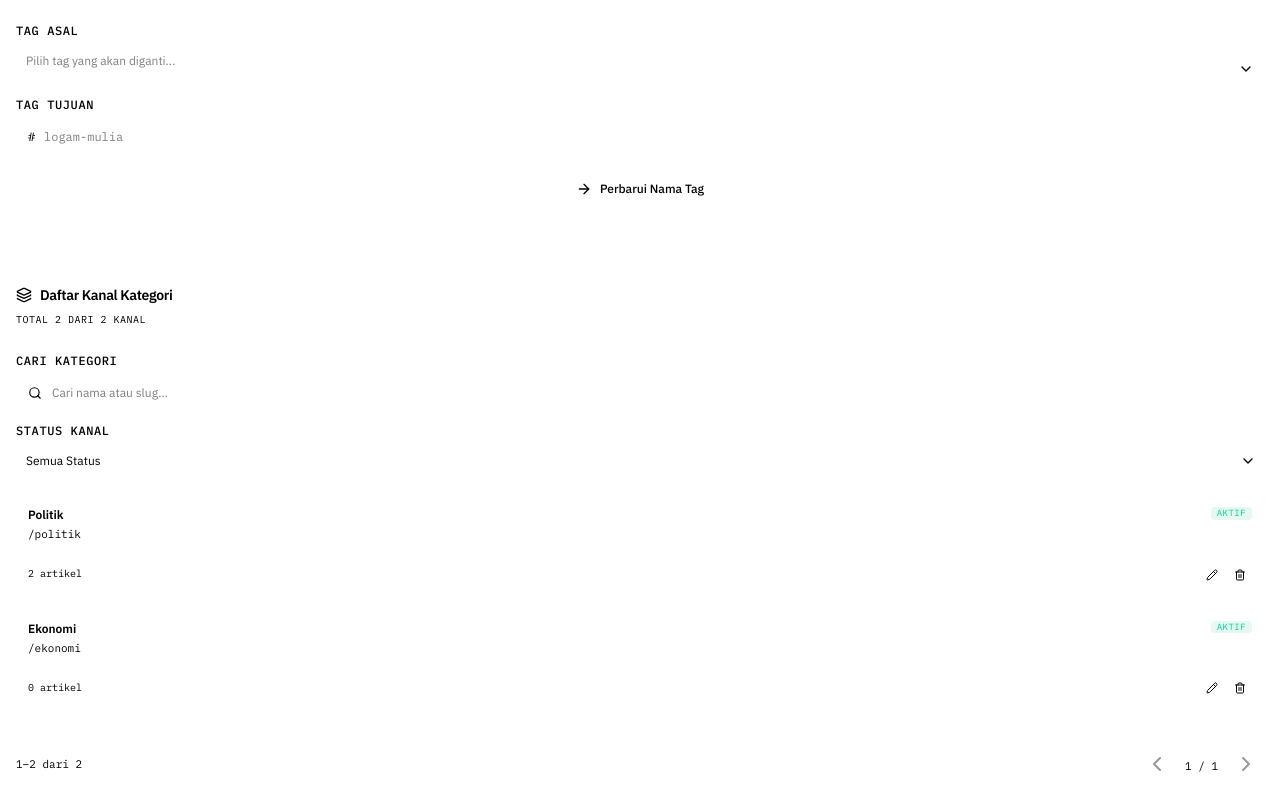
Test: TaxonomyManager › menyalahkan saringan, bukan data, saat kanal ada tetapi tidak cocok
(page scrolled)
Type "tidak-ada-sama-sekali" into the field labelled "Cari Kategori" at (640, 393), box [16, 375, 1264, 411]
(page scrolled)
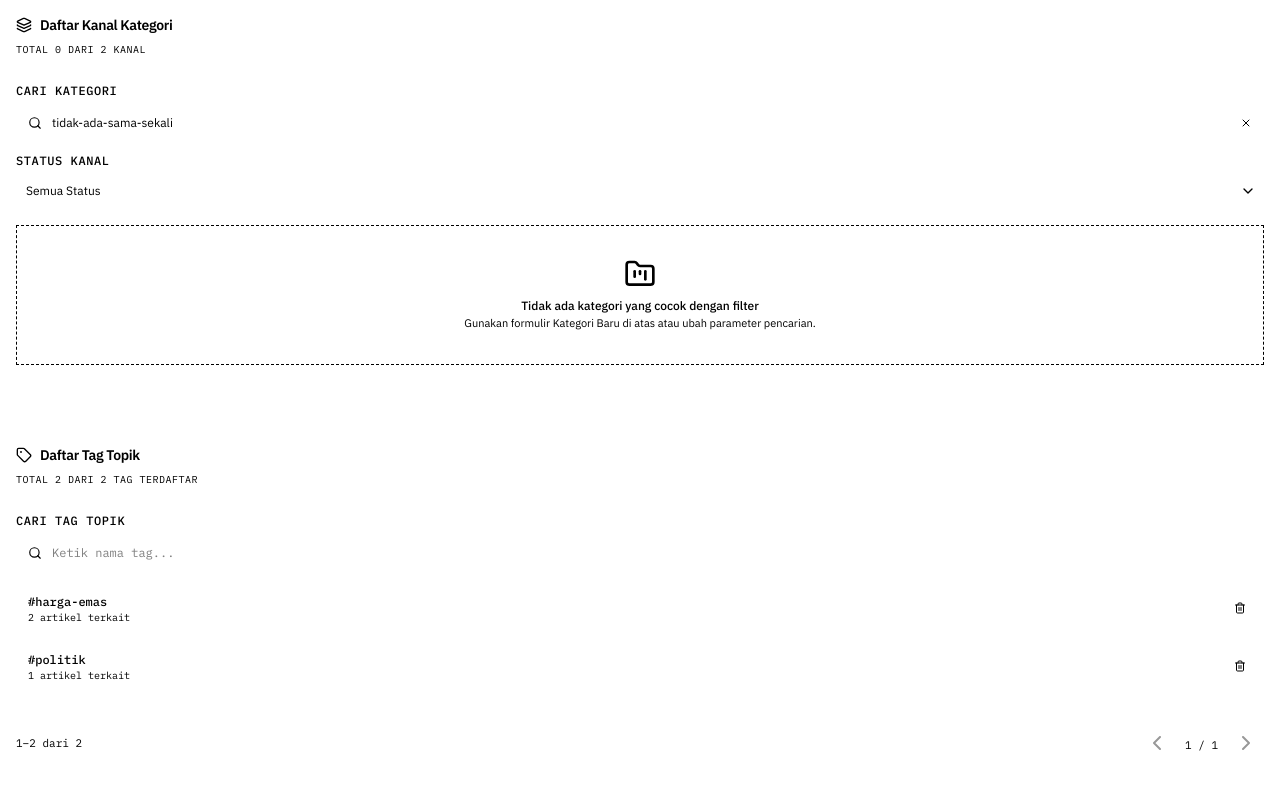
Check: the button named "Ke halaman tag sebelumnya" is shown, box [1145, 731, 1169, 755]
Check: the text "Tidak ada kategori yang cocok dengan filter" is shown, box [521, 298, 759, 314]
